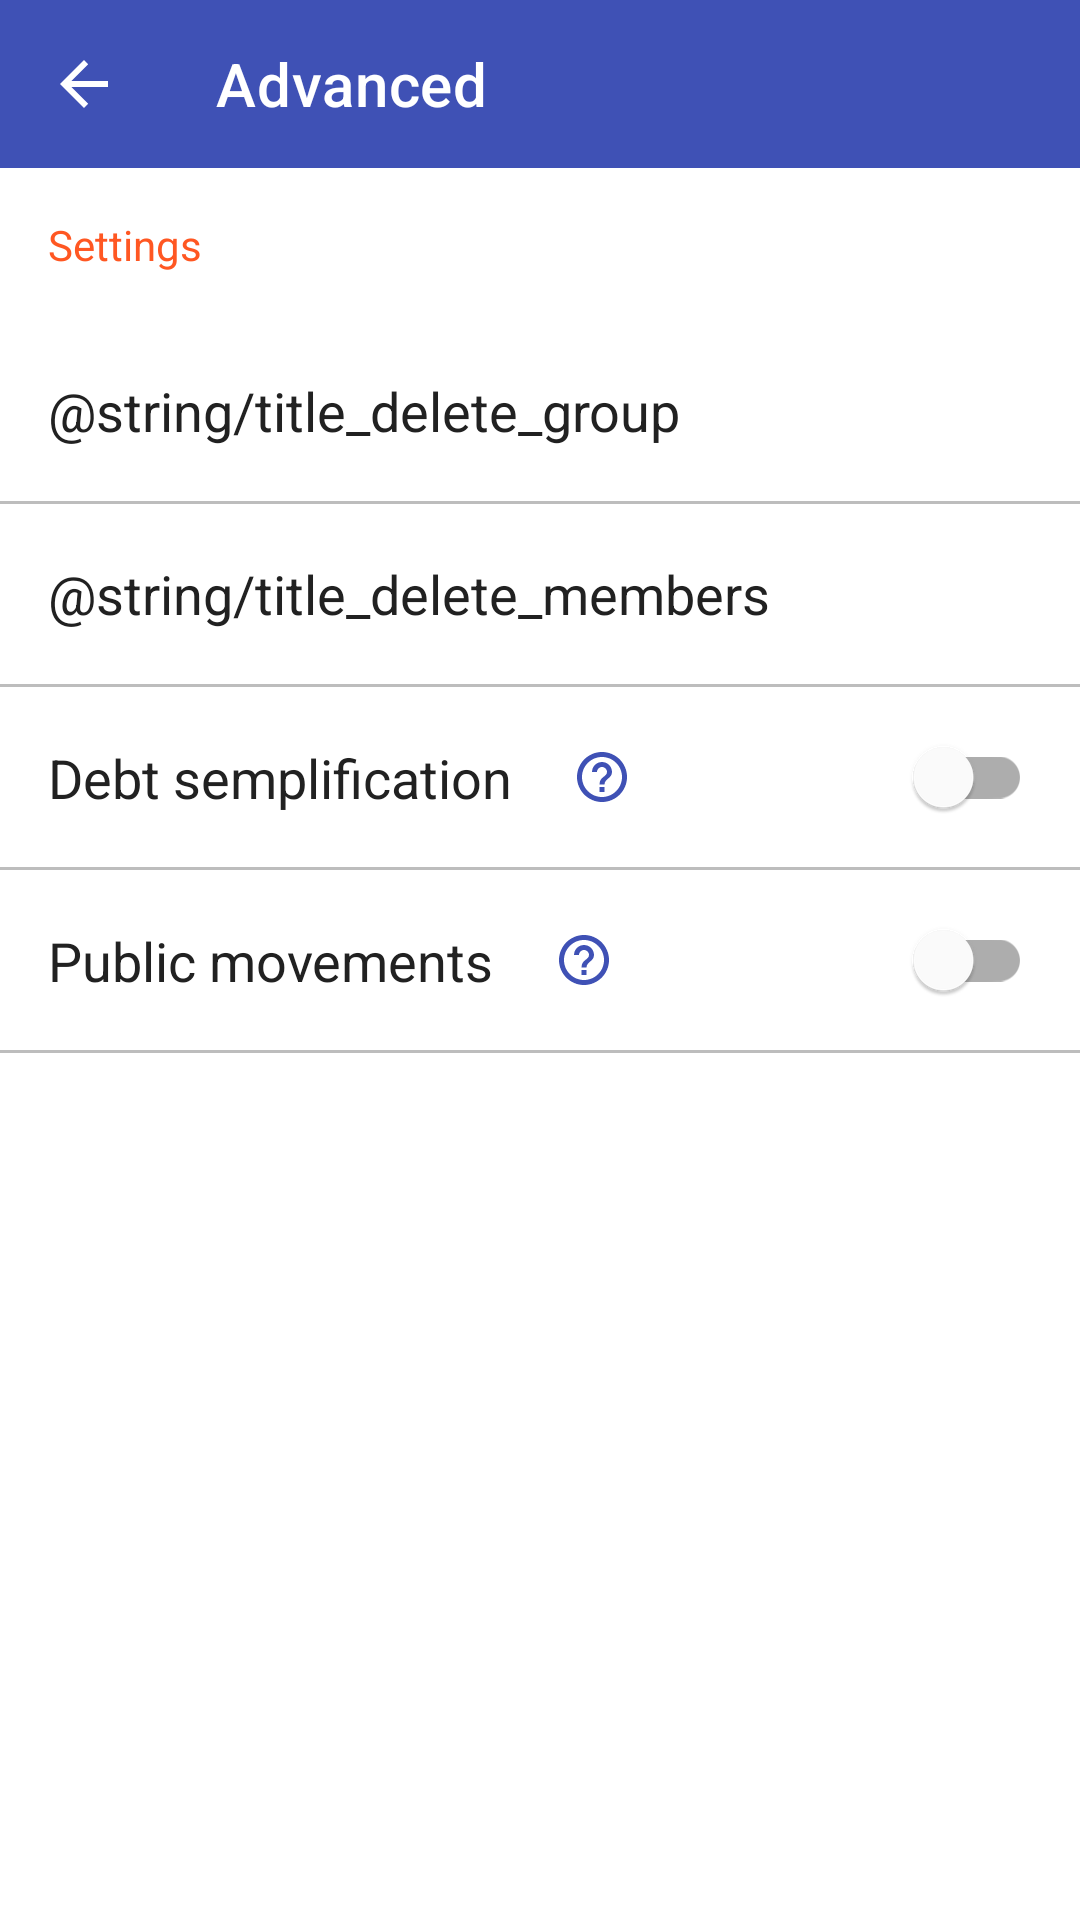

Named icons in this screenshot (1080 x 1920) and their bounding boxes, (x1, y1, x2, y2):
help: (577, 752, 627, 802), (559, 935, 609, 985)
